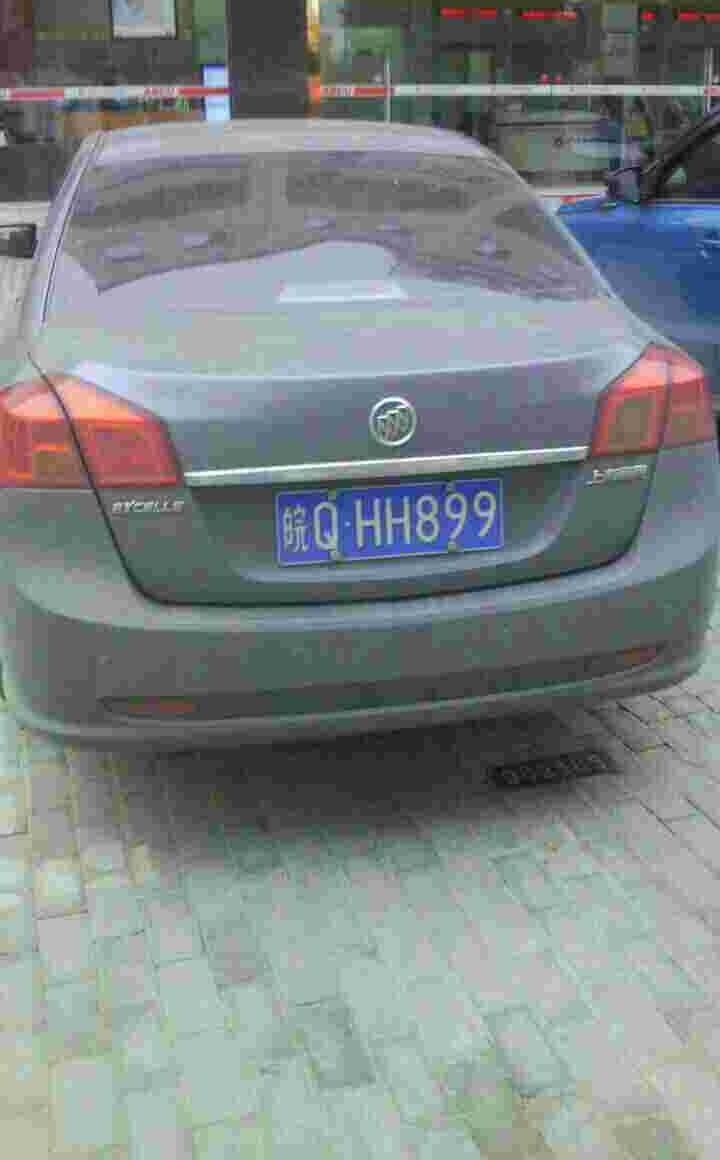plate: (279, 472, 510, 568)
